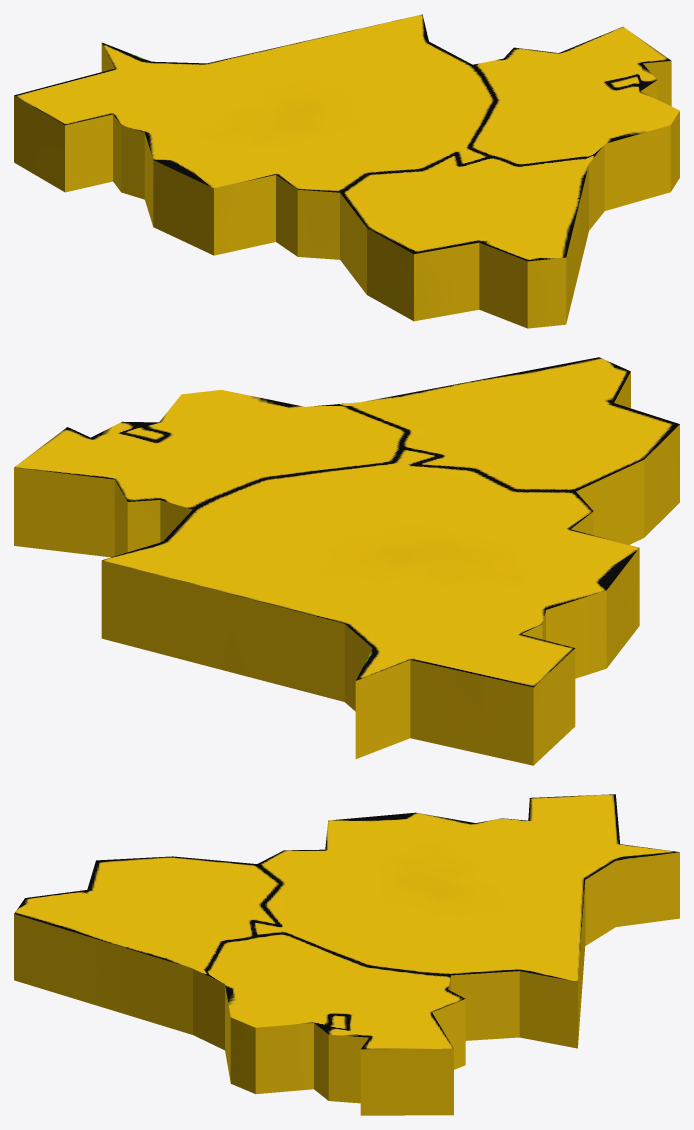
Rendered from CentroOeste.fbx.
The picture shows the model from 3 angles, top to bottom: view 1: azimuth 30°, elevation 25°; view 2: azimuth 150°, elevation 25°; view 3: azimuth 270°, elevation 25°; orthographic projection. The views are drawn at different scales.
Visible parts, largest first — view 1: CentroOeste; view 2: CentroOeste; view 3: CentroOeste.
Part boxes in pixels (x1,y1,x2,y2): CentroOeste: [14, 14, 679, 328]; CentroOeste: [14, 357, 679, 765]; CentroOeste: [14, 794, 679, 1115].
Bounding box in the file's own units: 138 × 16.73 × 152.
Materials: 1 (1 with a texture image).
